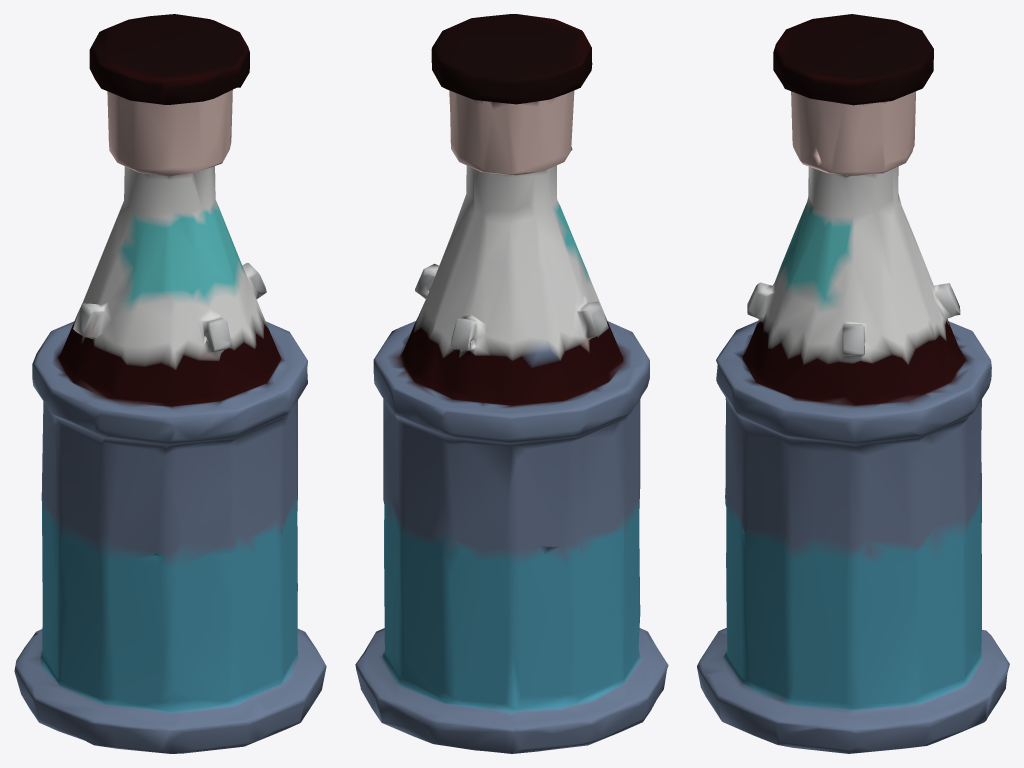
File: gen3d-lab-scientist-lod0.glb
The picture shows the model from 3 angles, left to right: view 1: azimuth 30°, elevation 25°; view 2: azimuth 150°, elevation 25°; view 3: azimuth 270°, elevation 25°; orthographic projection.
Parts seen in each view (by area): view 1: part_0; view 2: part_0; view 3: part_0.
Boxes of the visible parts, bbox=[...] form: part_0: bbox=[14, 14, 326, 753]; part_0: bbox=[355, 14, 668, 753]; part_0: bbox=[697, 14, 1009, 753].
Bounding box in the file's own units: 0.4399 × 0.9999 × 0.4401.
